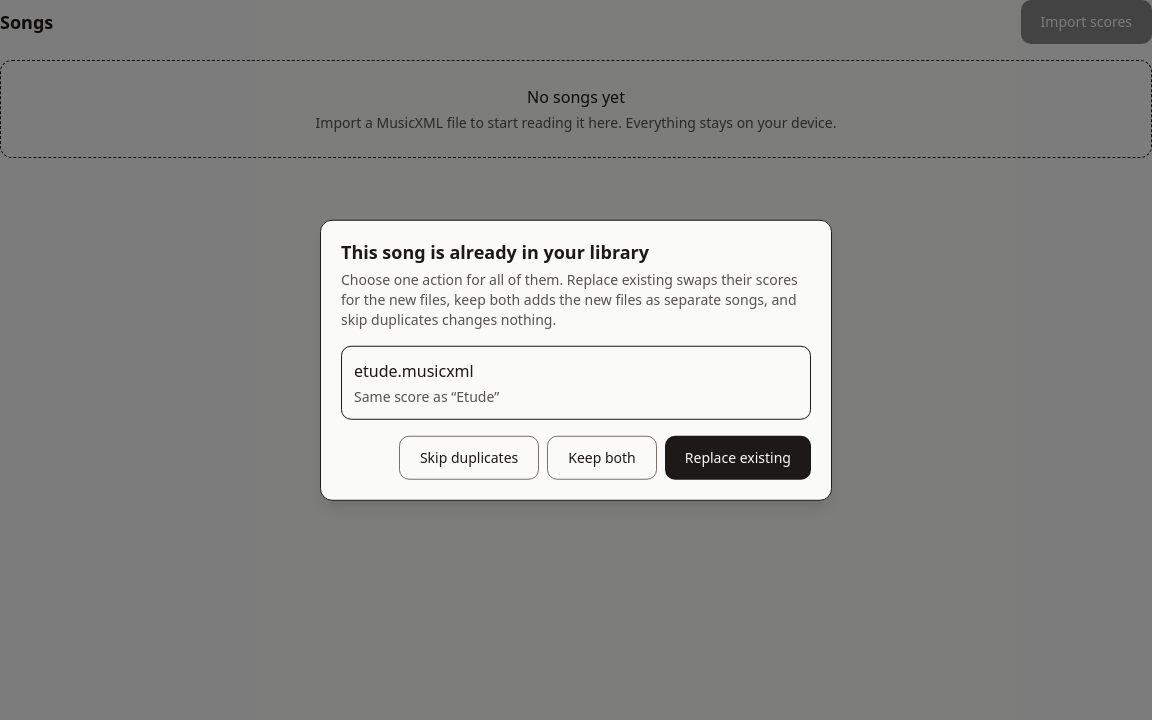
Scenario: asks about the duplicates, and the choice decides the summary
The image size is (1152, 720).
Earlier steps of the test are not shown.
Click the button "Keep both" at (602, 457), box [547, 435, 657, 479]
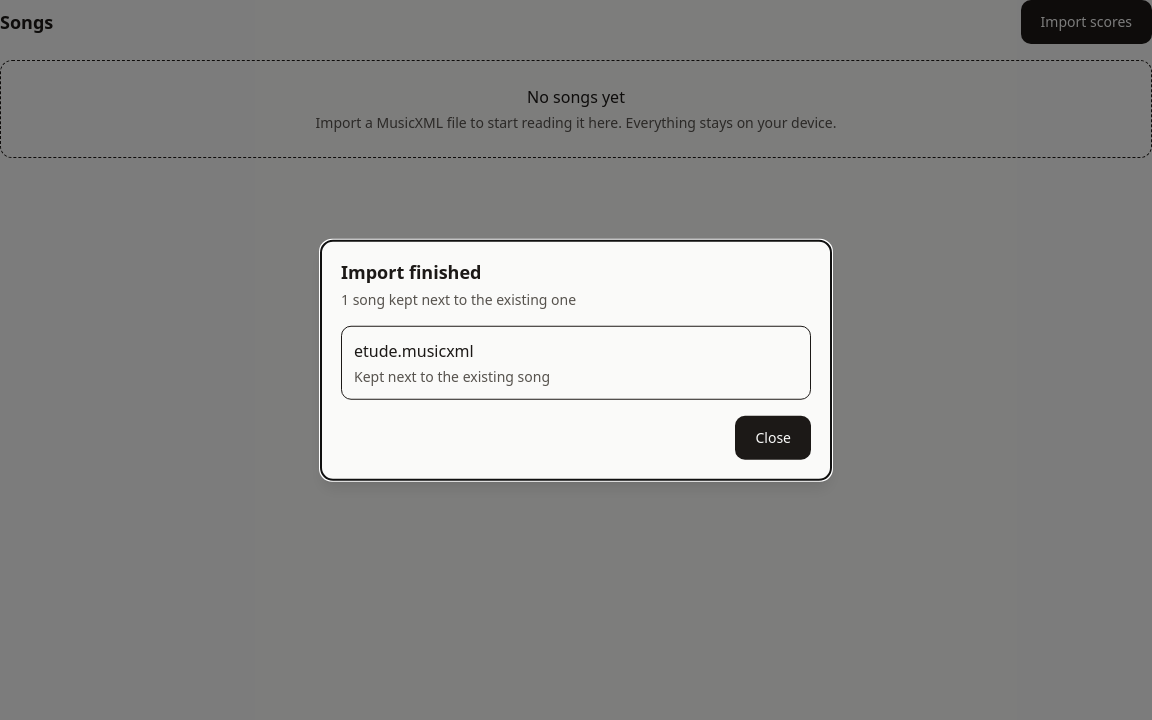
Now the dialog "Import finished" is shown, box [320, 240, 832, 480]
Now the text "1 song kept next to the existing one" is shown, box [341, 289, 576, 308]
